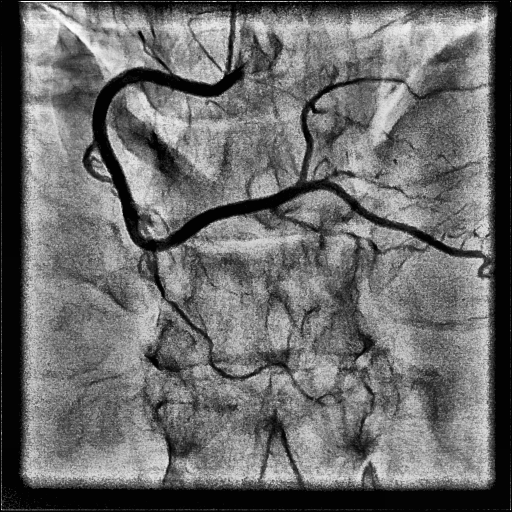pborca: (298, 77, 469, 181)
pda: (298, 180, 492, 266)
rca: (92, 67, 302, 251)
